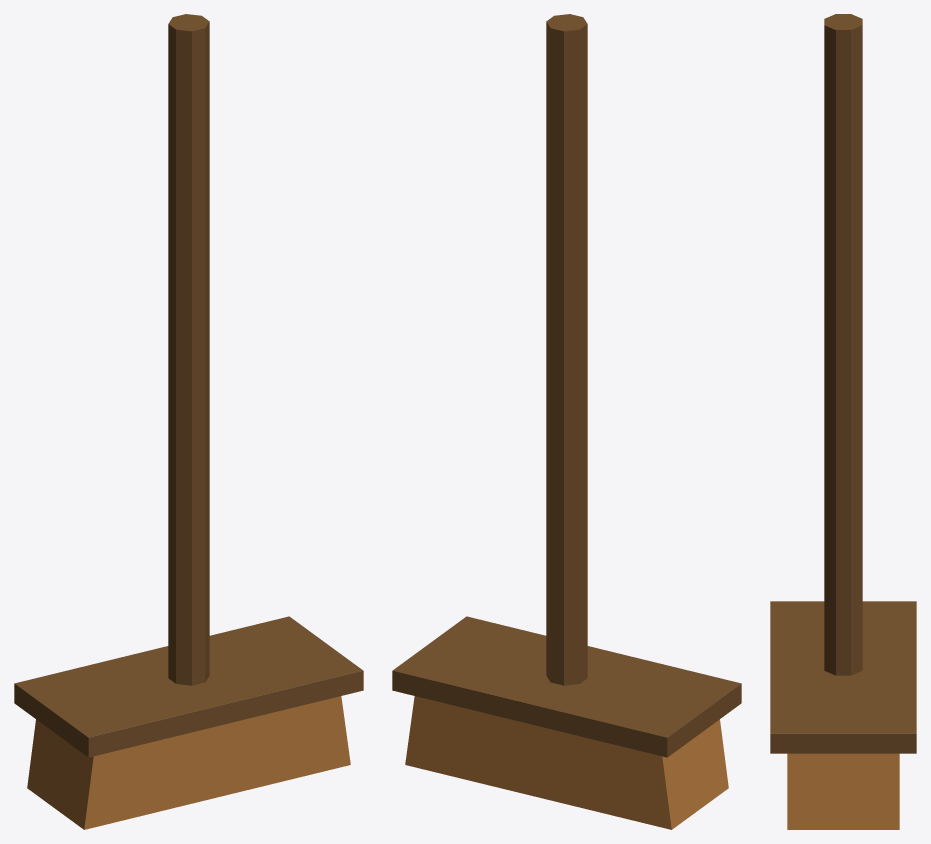
Rendered from vassoura.fbx.
3 renders of one model, left to right at view 1: azimuth 30°, elevation 25°; view 2: azimuth 150°, elevation 25°; view 3: azimuth 270°, elevation 25°, orthographic.
Parts seen in each view (by area): view 1: Cube; view 2: Cube; view 3: Cube.
Part boxes in pixels (x1,y1,x2,y2): Cube: (14,14,363,829); Cube: (392,14,741,829); Cube: (770,14,916,829).
Size of the model in its own units: 1639 by 4294 by 765.
